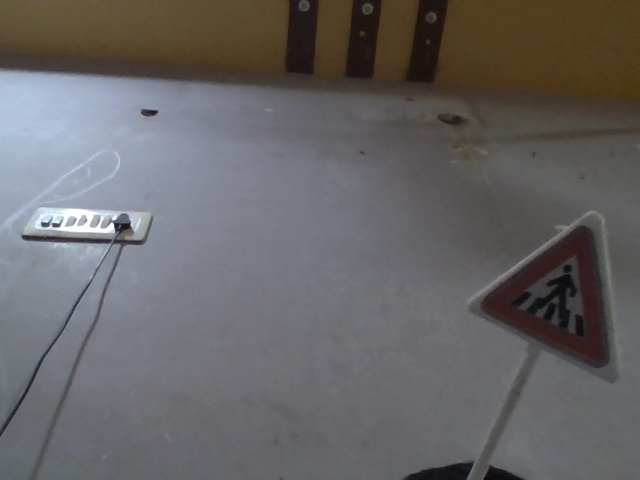crossing: (462, 209, 636, 392)
